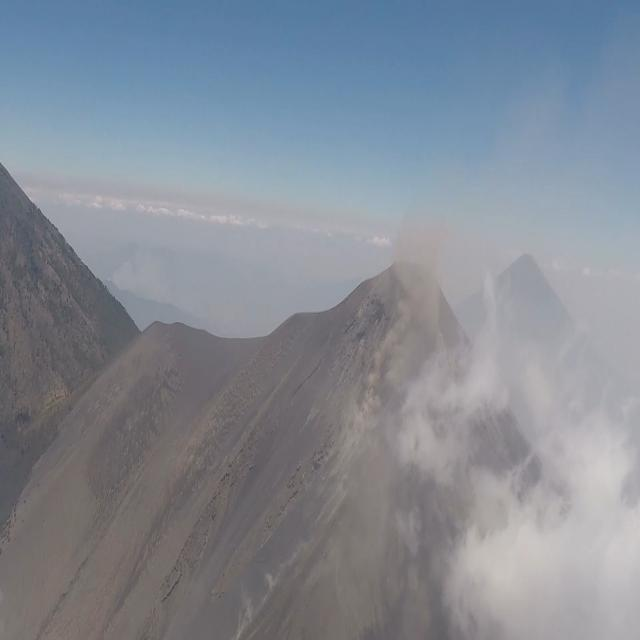Summit: (259, 228, 528, 444)
